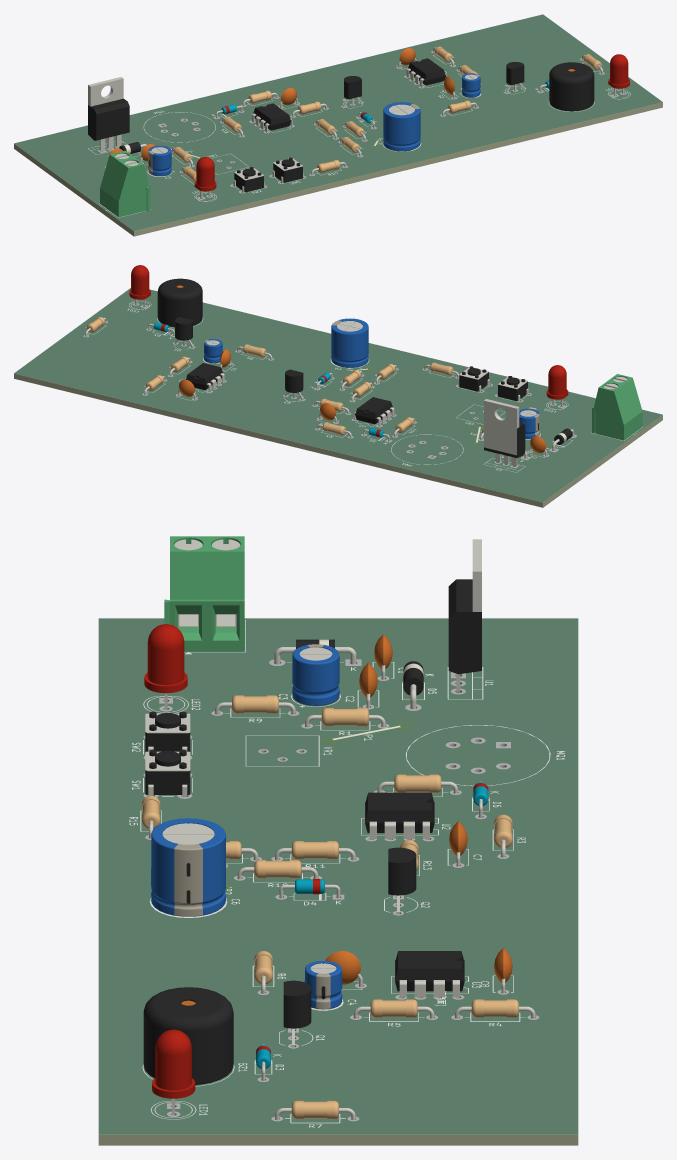
Rendered from board.glb.
3 renders of one model, top to bottom at view 1: azimuth 30°, elevation 25°; view 2: azimuth 150°, elevation 25°; view 3: azimuth 270°, elevation 25°, orthographic. The views are drawn at different scales.
Visible parts, largest first — view 1: =>[0:1:1:35], =>[0:1:1:37], =>[0:1:1:23], =>[0:1:1:29], =>[0:1:1:27], =>[0:1:1:19], =>[0:1:1:3] (×2), =>[0:1:1:17] (×2), =>[0:1:1:33], =>[0:1:1:5] (×2), =>[0:1:1:31], =>[0:1:1:21] (×2) (+2 smaller); view 2: =>[0:1:1:35], =>[0:1:1:37], =>[0:1:1:23], =>[0:1:1:29], =>[0:1:1:27], =>[0:1:1:19], =>[0:1:1:3] (×2), =>[0:1:1:33], =>[0:1:1:17] (×2), =>[0:1:1:5] (×2), =>[0:1:1:31], =>[0:1:1:21] (×2) (+2 smaller); view 3: =>[0:1:1:35], =>[0:1:1:37], =>[0:1:1:13] (×8), =>[0:1:1:23], =>[0:1:1:19], =>[0:1:1:27], =>[0:1:1:3] (×2), =>[0:1:1:33], =>[0:1:1:17] (×2), =>[0:1:1:5] (×2), =>[0:1:1:29], =>[0:1:1:31] (+3 smaller).
Part boxes in pixels (box(x1,y1,x2,y2)): =>[0:1:1:35]: box(14, 14, 662, 230); =>[0:1:1:37]: box(14, 15, 662, 236); =>[0:1:1:23]: box(100, 150, 150, 217); =>[0:1:1:29]: box(88, 77, 129, 151); =>[0:1:1:27]: box(549, 62, 594, 111); =>[0:1:1:19]: box(383, 102, 420, 151); =>[0:1:1:3] (×2): box(252, 58, 447, 132); =>[0:1:1:17] (×2): box(194, 54, 629, 198); =>[0:1:1:33]: box(88, 54, 630, 217); =>[0:1:1:5] (×2): box(233, 157, 303, 192); =>[0:1:1:31]: box(98, 51, 626, 199); =>[0:1:1:21] (×2): box(343, 62, 524, 107); =>[0:1:1:35]: box(14, 288, 662, 502); =>[0:1:1:37]: box(14, 289, 662, 507); =>[0:1:1:23]: box(592, 374, 642, 440); =>[0:1:1:29]: box(484, 399, 525, 466); =>[0:1:1:27]: box(157, 278, 202, 327); =>[0:1:1:19]: box(331, 318, 368, 367); =>[0:1:1:3] (×2): box(184, 363, 394, 426); =>[0:1:1:33]: box(86, 301, 642, 472); =>[0:1:1:17] (×2): box(129, 265, 568, 406); =>[0:1:1:5] (×2): box(458, 366, 528, 401); =>[0:1:1:31]: box(83, 303, 576, 468); =>[0:1:1:21] (×2): box(174, 317, 303, 400); =>[0:1:1:35]: box(98, 618, 578, 1134); =>[0:1:1:37]: box(98, 619, 578, 1145); =>[0:1:1:13] (×8): box(215, 695, 535, 1119); =>[0:1:1:23]: box(164, 536, 244, 651); =>[0:1:1:19]: box(151, 818, 225, 916); =>[0:1:1:27]: box(143, 987, 233, 1084); =>[0:1:1:3] (×2): box(365, 792, 464, 998); =>[0:1:1:33]: box(129, 620, 565, 1127); =>[0:1:1:17] (×2): box(144, 624, 195, 1115); =>[0:1:1:5] (×2): box(145, 711, 190, 797); =>[0:1:1:29]: box(448, 539, 481, 692); =>[0:1:1:31]: box(143, 659, 539, 1121).
Bounding box in the file's own units: 0.163 × 0.0285 × 0.064.
